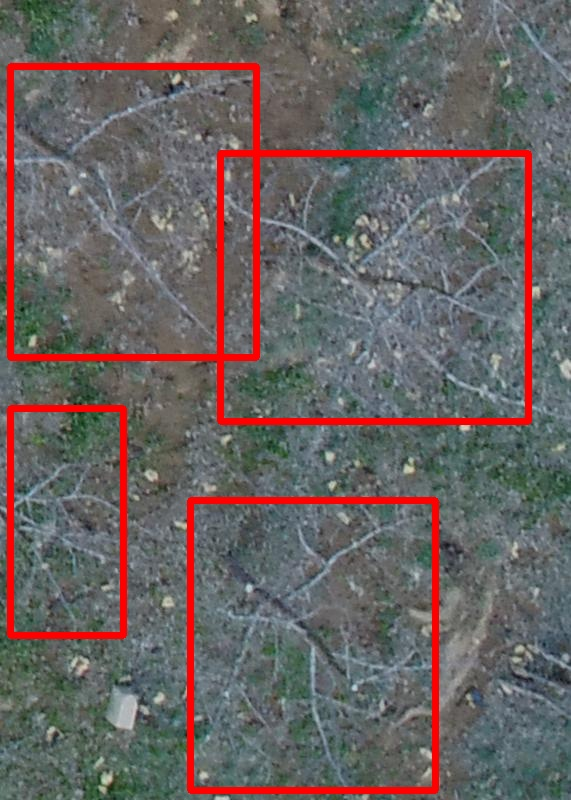apple: (220, 153, 528, 421), (10, 66, 256, 357), (190, 500, 435, 790), (10, 408, 123, 635)
